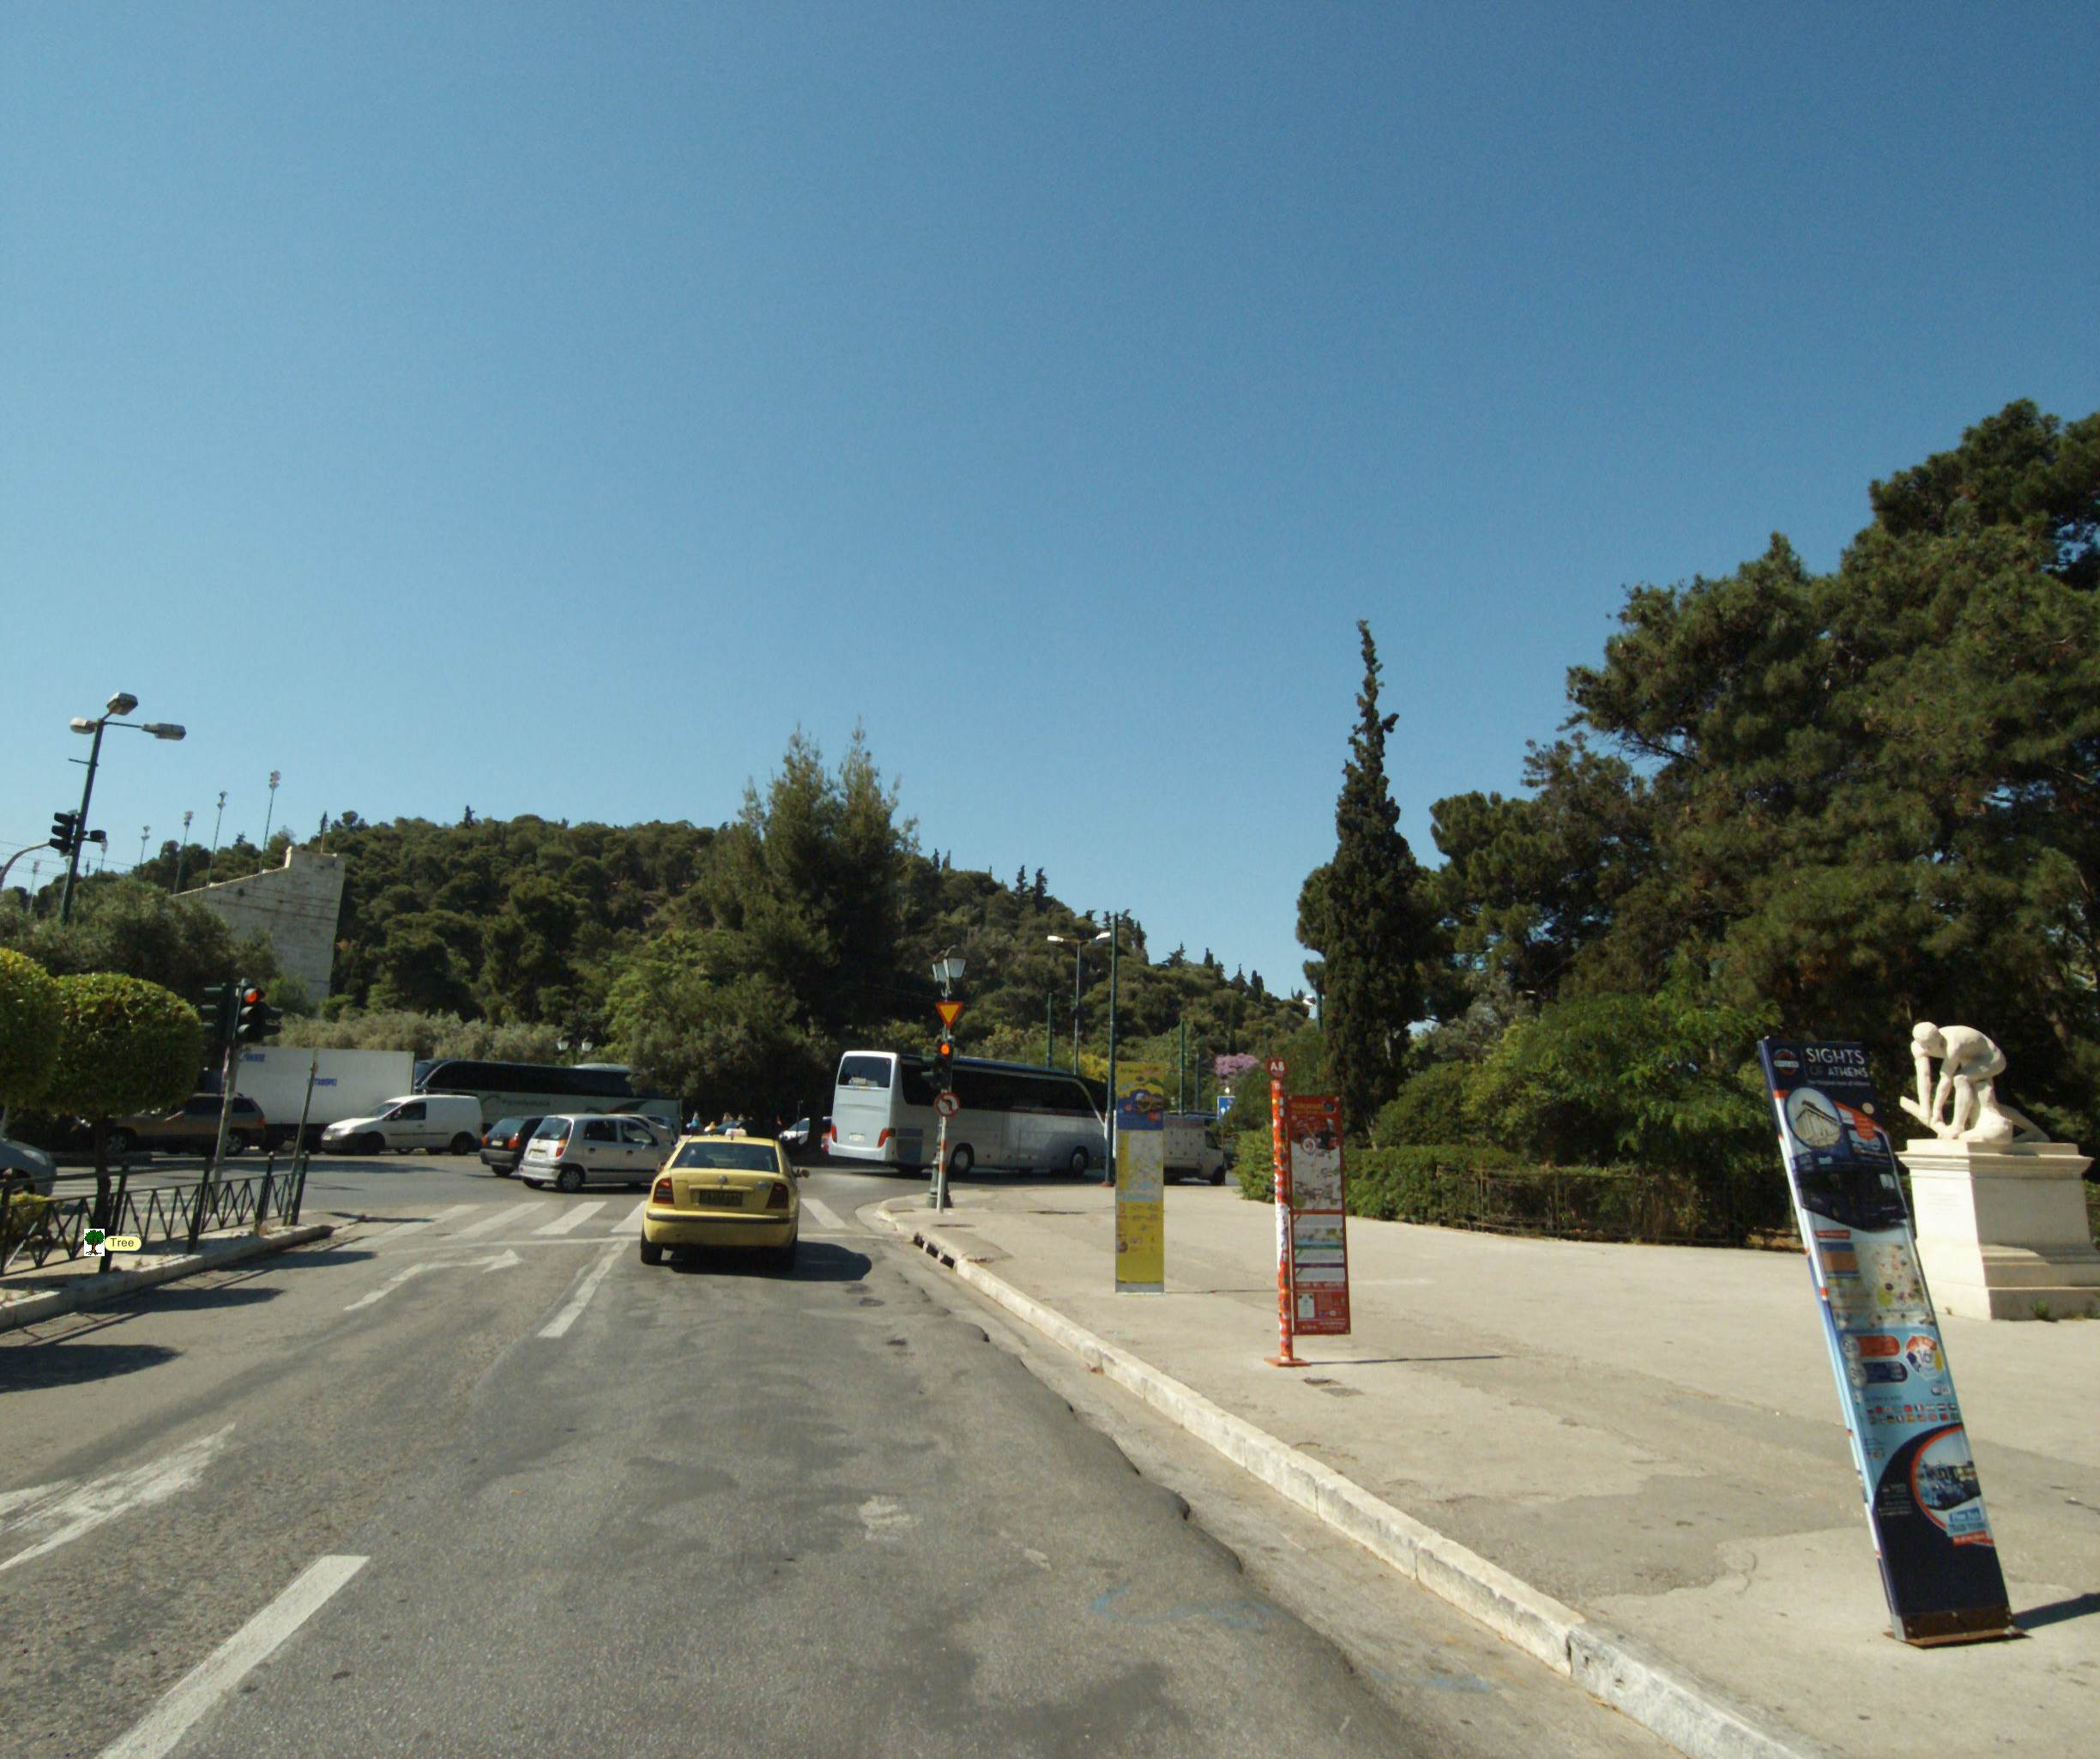tree: (37, 921, 209, 1311)
